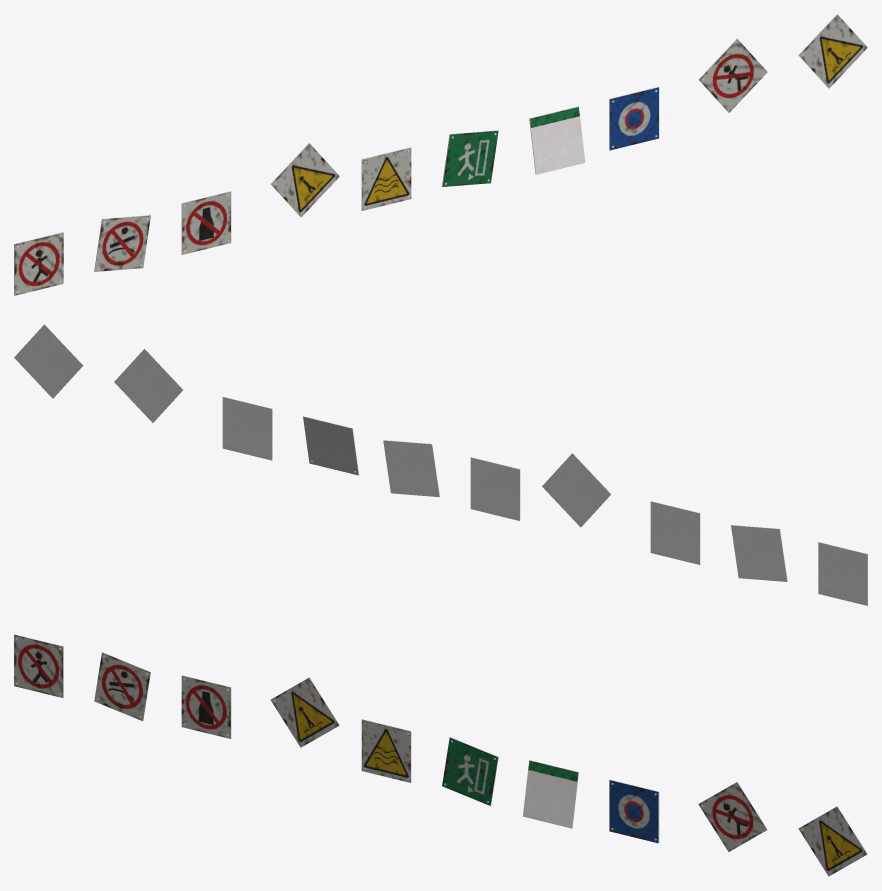
Rendered from cartelli.glb.
3 renders of one model, top to bottom at view 1: azimuth 30°, elevation 25°; view 2: azimuth 150°, elevation 25°; view 3: azimuth 330°, elevation 25°, orthographic.
Visible parts, largest first — view 1: det_cartello_pronto_soccorso, det_cartello_profondita, det_cartello_salvagente, det_cartello_vietato_vetro, det_cartello_non_tuffarsi, det_cartello_uscita, det_cartello_non_correre, det_cartello_pavimento_bagnato, det_cartello_pavimento_bagnato_penzolante, det_cartello_non_correre_penzolante; view 2: det_cartello_profondita, det_cartello_salvagente, det_cartello_vietato_vetro, det_cartello_non_tuffarsi, det_cartello_uscita, det_cartello_non_correre, det_cartello_pavimento_bagnato, det_cartello_pavimento_bagnato_penzolante, det_cartello_non_correre_penzolante, det_cartello_pronto_soccorso; view 3: det_cartello_pronto_soccorso, det_cartello_profondita, det_cartello_salvagente, det_cartello_vietato_vetro, det_cartello_non_tuffarsi, det_cartello_uscita, det_cartello_pavimento_bagnato, det_cartello_pavimento_bagnato_penzolante, det_cartello_non_correre_penzolante, det_cartello_non_correre.
Part boxes in pixels (x1=…): det_cartello_pronto_soccorso: x1=529, y1=106, x2=585, y2=174; det_cartello_profondita: x1=361, y1=147, x2=411, y2=210; det_cartello_salvagente: x1=609, y1=86, x2=659, y2=150; det_cartello_vietato_vetro: x1=181, y1=191, x2=231, y2=254; det_cartello_non_tuffarsi: x1=94, y1=215, x2=150, y2=271; det_cartello_uscita: x1=442, y1=130, x2=498, y2=186; det_cartello_non_correre: x1=14, y1=232, x2=63, y2=295; det_cartello_pavimento_bagnato: x1=270, y1=143, x2=339, y2=217; det_cartello_pavimento_bagnato_penzolante: x1=798, y1=14, x2=867, y2=88; det_cartello_non_correre_penzolante: x1=698, y1=38, x2=767, y2=112; det_cartello_profondita: x1=470, y1=457, x2=520, y2=520; det_cartello_salvagente: x1=222, y1=396, x2=272, y2=460; det_cartello_vietato_vetro: x1=650, y1=501, x2=700, y2=564; det_cartello_non_tuffarsi: x1=731, y1=525, x2=787, y2=581; det_cartello_uscita: x1=383, y1=440, x2=439, y2=496; det_cartello_non_correre: x1=818, y1=542, x2=867, y2=605; det_cartello_pavimento_bagnato: x1=542, y1=453, x2=611, y2=527; det_cartello_pavimento_bagnato_penzolante: x1=14, y1=324, x2=83, y2=398; det_cartello_non_correre_penzolante: x1=114, y1=348, x2=183, y2=422; det_cartello_pronto_soccorso: x1=303, y1=416, x2=358, y2=475; det_cartello_pronto_soccorso: x1=523, y1=760, x2=578, y2=828; det_cartello_profondita: x1=361, y1=719, x2=411, y2=782; det_cartello_salvagente: x1=609, y1=779, x2=659, y2=843; det_cartello_vietato_vetro: x1=181, y1=675, x2=231, y2=738; det_cartello_non_tuffarsi: x1=94, y1=652, x2=150, y2=721; det_cartello_uscita: x1=442, y1=737, x2=498, y2=805; det_cartello_pavimento_bagnato: x1=270, y1=677, x2=339, y2=747; det_cartello_pavimento_bagnato_penzolante: x1=798, y1=806, x2=867, y2=876; det_cartello_non_correre_penzolante: x1=698, y1=782, x2=767, y2=851; det_cartello_non_correre: x1=14, y1=634, x2=63, y2=697.
Bounding box in the file's own units: 6.92 × 0.6544 × 0.096.
Materials: 10 (10 with a texture image).
